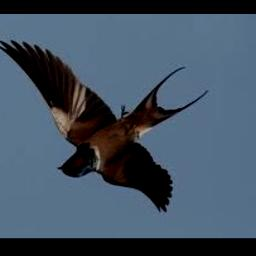Swallow: (0, 41, 207, 214)
